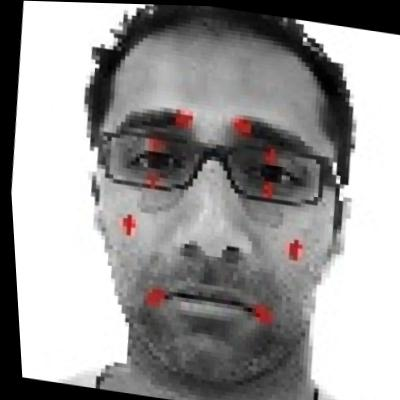sad: (57, 4, 371, 391)
